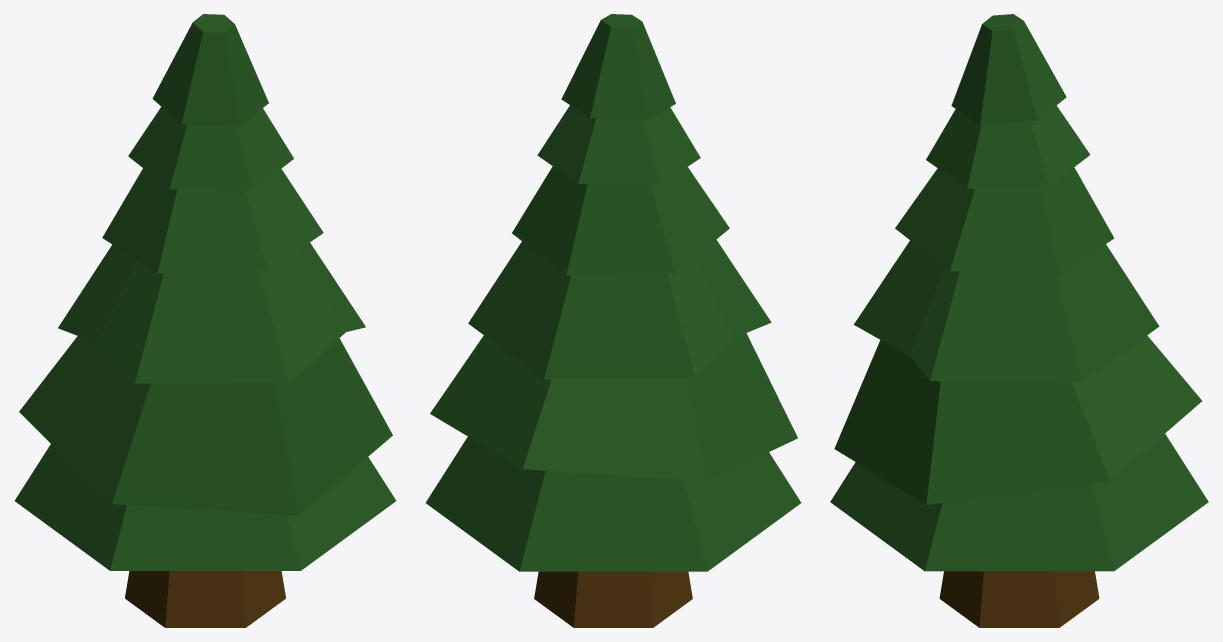
The model's file is tree.fbx.
The picture shows the model from 3 angles, left to right: view 1: azimuth 30°, elevation 25°; view 2: azimuth 150°, elevation 25°; view 3: azimuth 270°, elevation 25°; orthographic projection.
Parts seen in each view (by area): view 1: Cylinder.002; view 2: Cylinder.002; view 3: Cylinder.002.
Part boxes in pixels (bbox=[...]): Cylinder.002: bbox=[14, 14, 396, 627]; Cylinder.002: bbox=[425, 14, 801, 627]; Cylinder.002: bbox=[830, 14, 1208, 627].
Bounding box in the file's own units: 410 × 797 × 473.
Materials: 4 (4 with a texture image).
